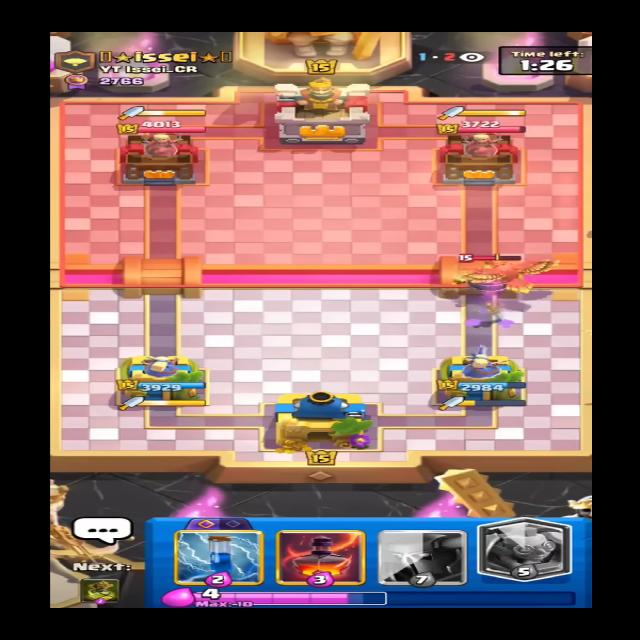goblin-demolisher: (456, 250, 538, 292)
